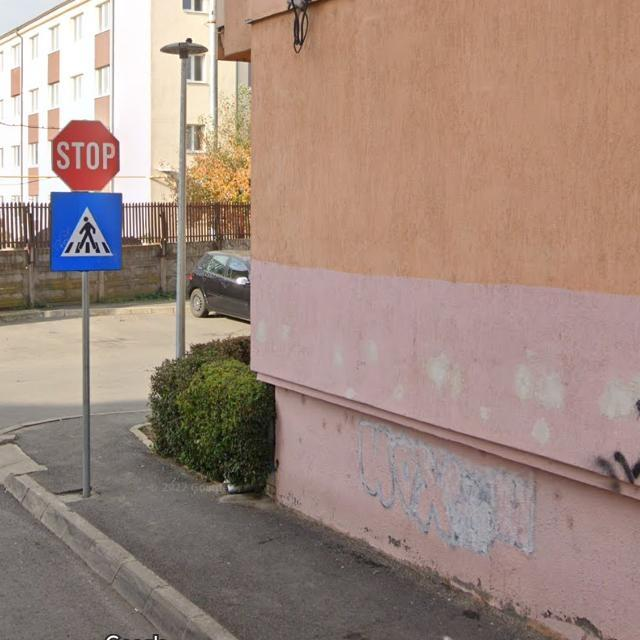info_crosswalk: (49, 191, 122, 270)
prio_stop: (50, 118, 121, 189)
